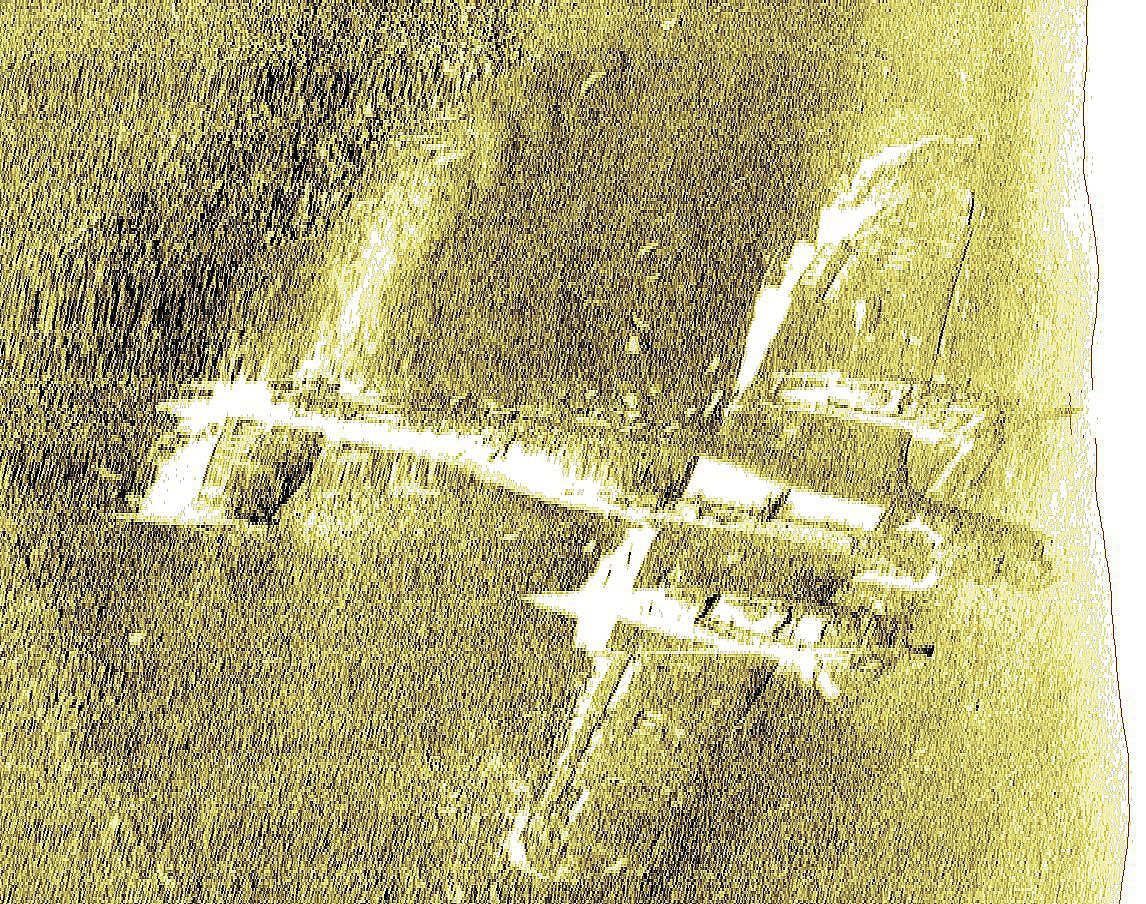aircraft: (129, 130, 1035, 882)
